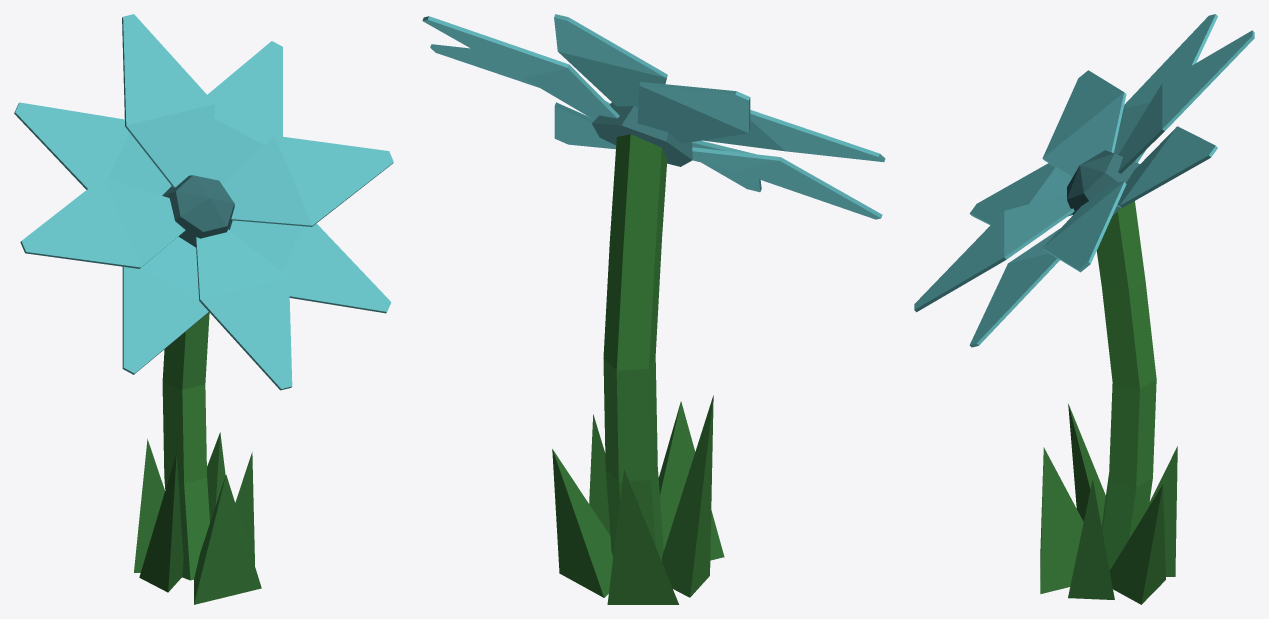
Rendered from Flower_1_Cyan.fbx.
The picture shows the model from 3 angles, left to right: view 1: azimuth 30°, elevation 25°; view 2: azimuth 150°, elevation 25°; view 3: azimuth 270°, elevation 25°; orthographic projection. The views are drawn at different scales.
Visible parts, largest first — view 1: Flower_1_Blue; view 2: Flower_1_Blue; view 3: Flower_1_Blue.
Boxes of the visible parts, x1,y1,x2,y2 form: Flower_1_Blue: (14, 14, 393, 604); Flower_1_Blue: (422, 14, 885, 604); Flower_1_Blue: (914, 14, 1254, 604).
Size of the model in its own units: 18.76 by 24.83 by 14.08.
